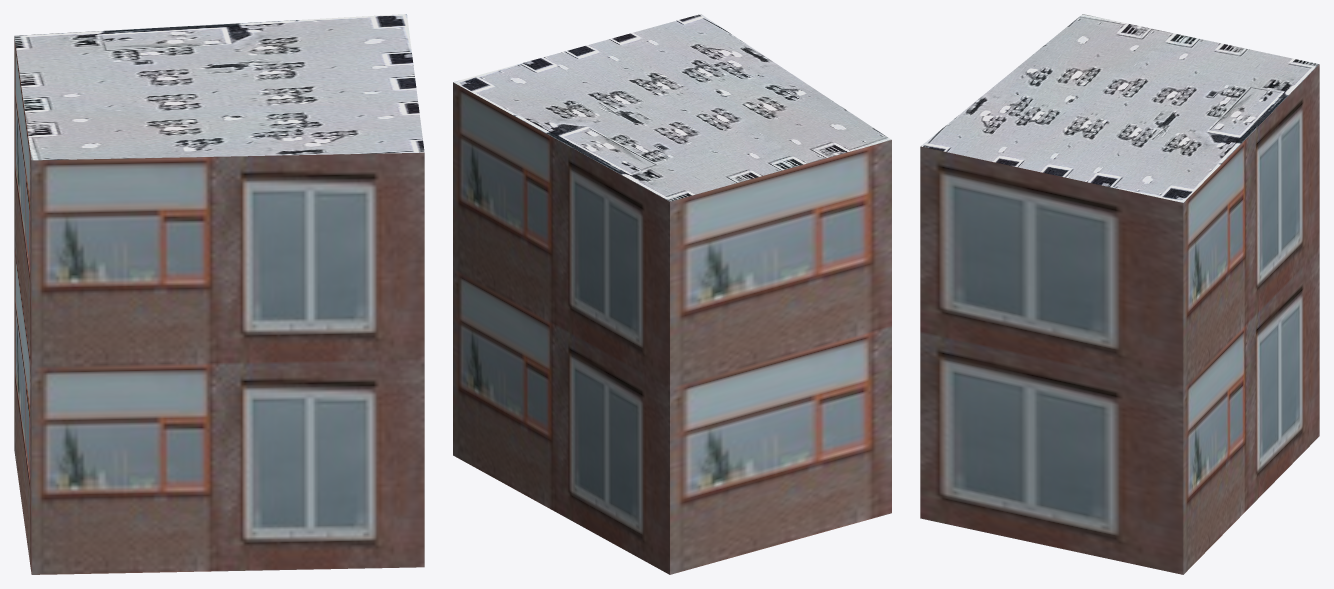
Rendered from ResTex__3800.fbx.
3 views of the same model, side by side, from view 1: azimuth 30°, elevation 25°; view 2: azimuth 150°, elevation 25°; view 3: azimuth 270°, elevation 25° (orthographic). The views are drawn at different scales.
Parts seen in each view (by area): view 1: CityEngineMaterial_19_m, CityEngineMaterial_15_m; view 2: CityEngineMaterial_19_m, CityEngineMaterial_15_m; view 3: CityEngineMaterial_19_m, CityEngineMaterial_15_m.
Boxes of the visible parts, x1,y1,x2,y2 form: CityEngineMaterial_19_m: (14,37,424,574); CityEngineMaterial_15_m: (14,14,424,160); CityEngineMaterial_19_m: (453,82,891,574); CityEngineMaterial_15_m: (453,14,891,201); CityEngineMaterial_19_m: (920,64,1319,574); CityEngineMaterial_15_m: (920,14,1319,202).
Size of the model in its own units: 6.54 by 6 by 5.83.
2 materials, 2 textured.
